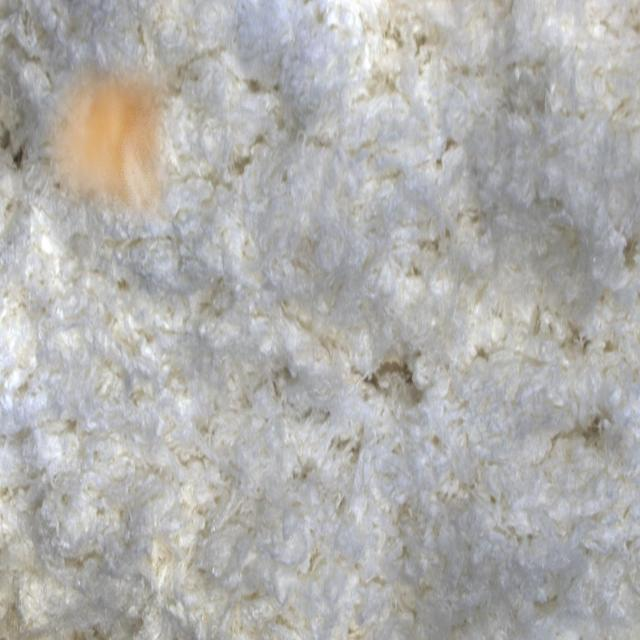dust: (42, 51, 181, 226)
